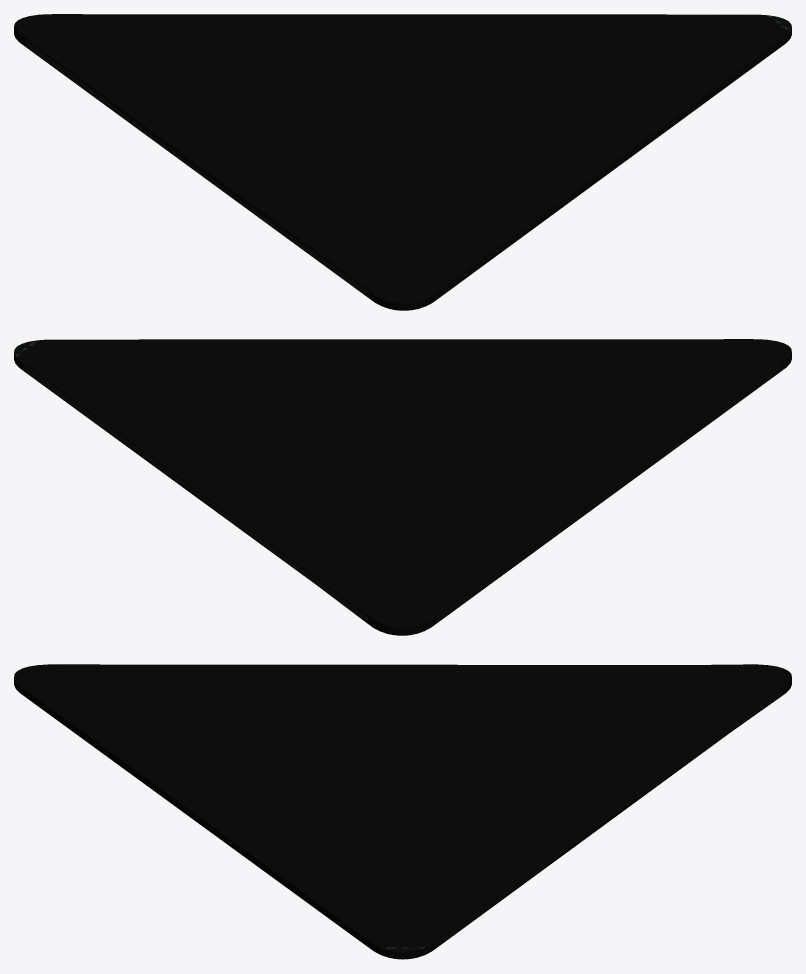
3 views of the same model, one above another, from view 1: azimuth 30°, elevation 25°; view 2: azimuth 150°, elevation 25°; view 3: azimuth 270°, elevation 25° (orthographic).
Parts seen in each view (by area): view 1: Cube.003; view 2: Cube.003; view 3: Cube.003.
Boxes of the visible parts, bbox=[...] form: Cube.003: bbox=[14, 14, 791, 310]; Cube.003: bbox=[14, 339, 791, 635]; Cube.003: bbox=[14, 664, 791, 959].
Size of the model in its own units: 0.0743 by 0.000864 by 0.0849.
Materials: 1 (1 with a texture image).
